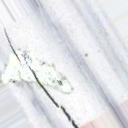crackTip: (3, 25, 81, 128)
